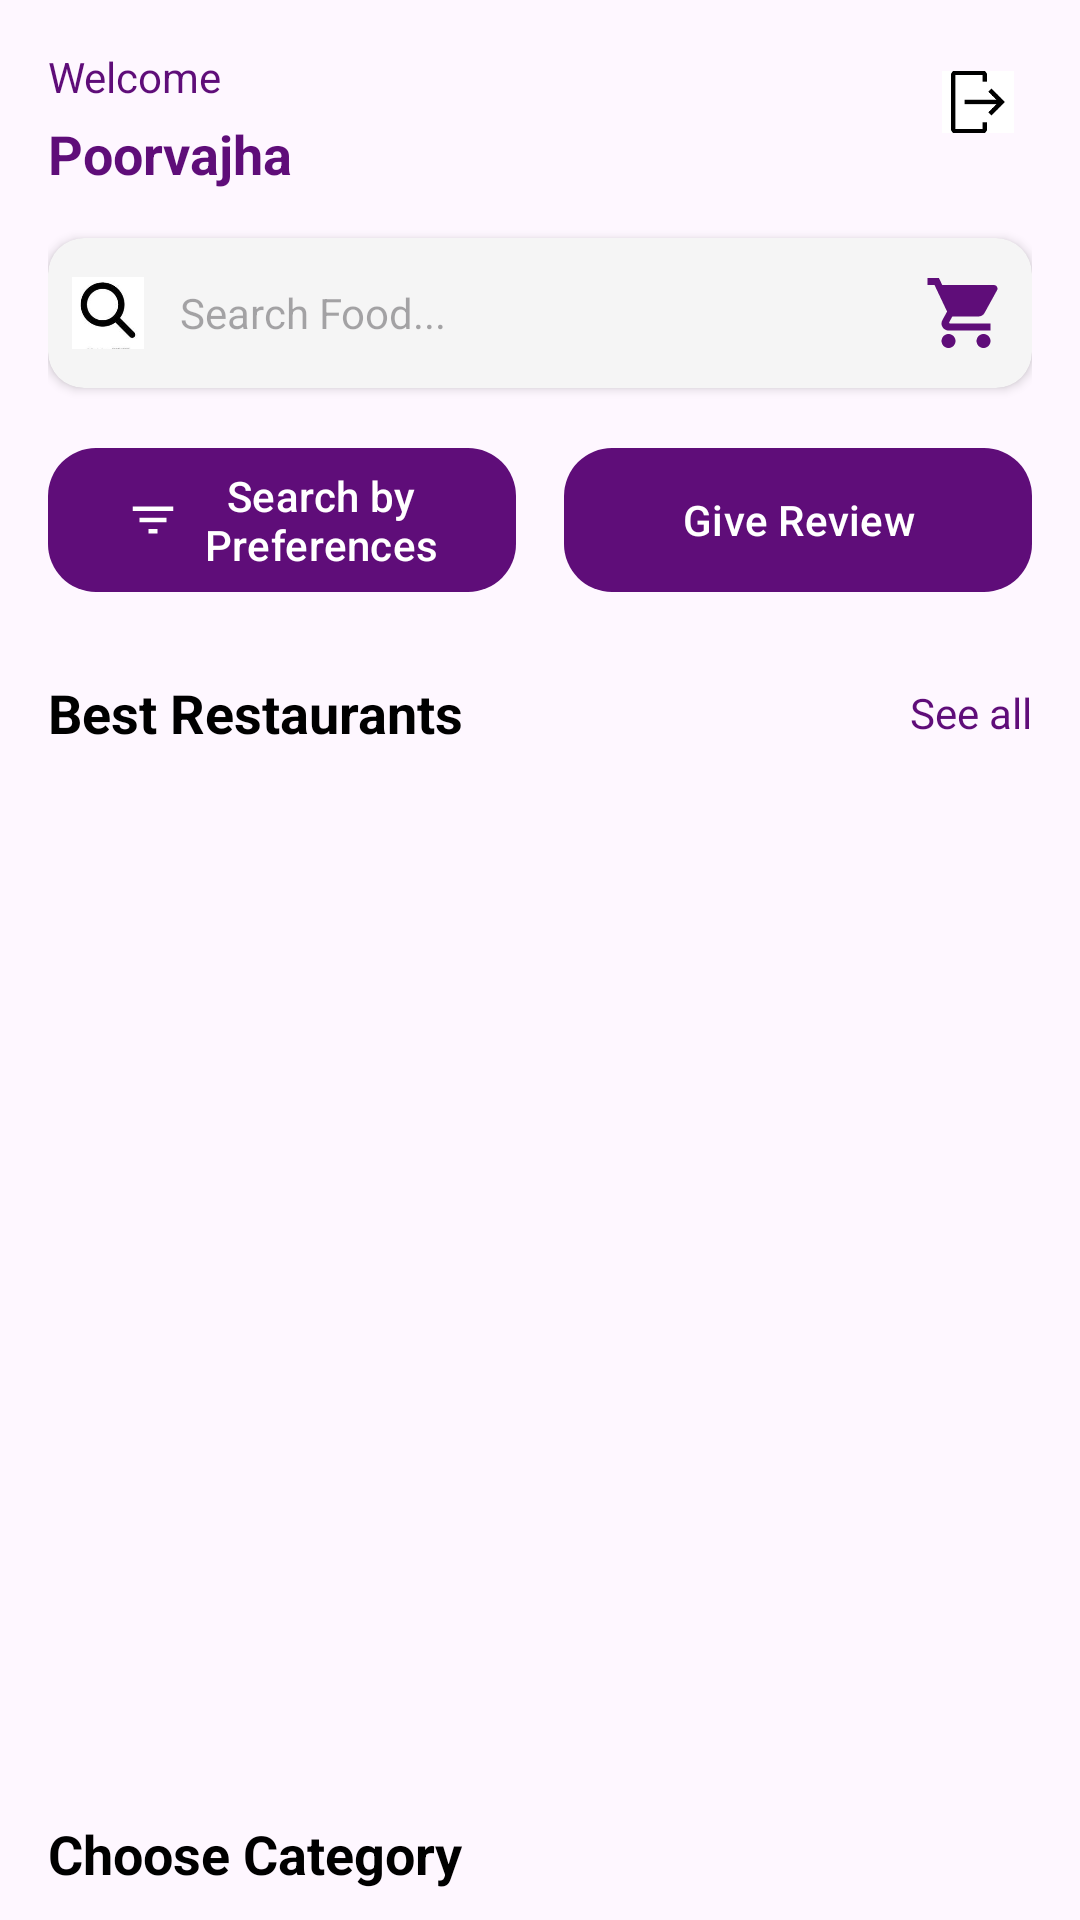

Icon click points for this 1080w x 1920h phone screenshot, format point (x, y):
Cart: point (962, 313)
